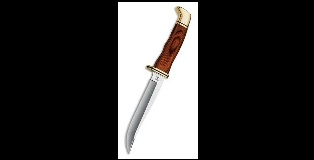k1: (123, 63, 171, 155)
